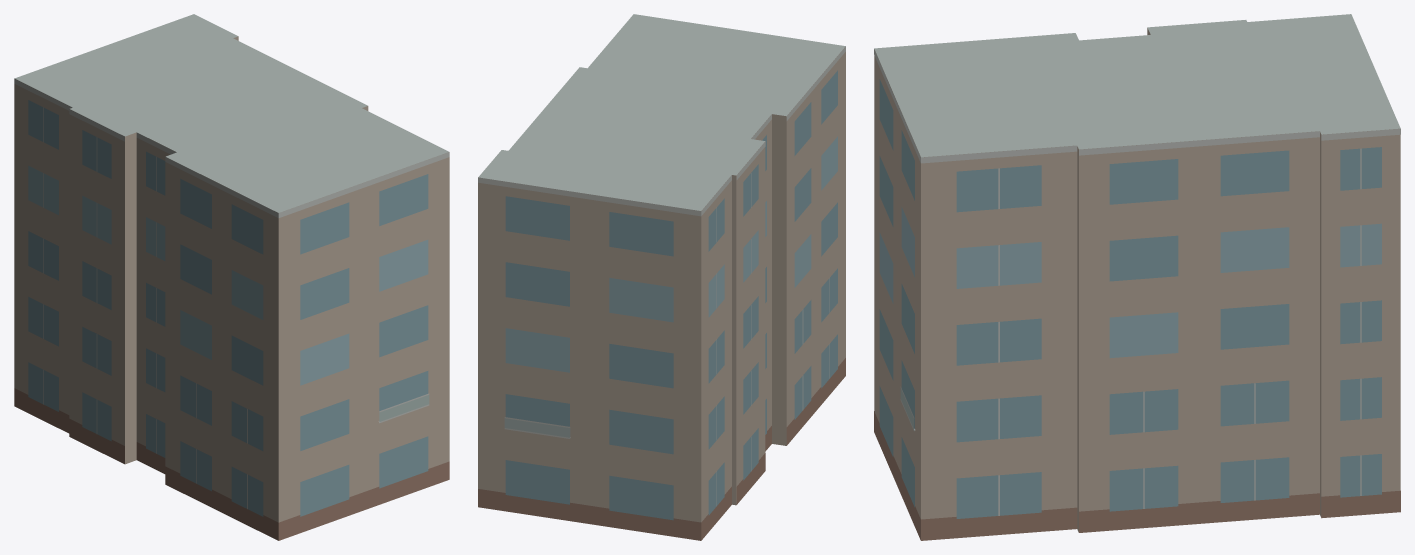
Rendered from survey-upis-33012793.glb.
The picture shows the model from 3 angles, left to right: view 1: azimuth 30°, elevation 25°; view 2: azimuth 150°, elevation 25°; view 3: azimuth 270°, elevation 25°; orthographic projection. The views are drawn at different scales.
Visible parts, largest first — view 1: survey-upis-33012793.tmp; view 2: survey-upis-33012793.tmp; view 3: survey-upis-33012793.tmp.
Boxes of the visible parts, x1,y1,x2,y2 form: survey-upis-33012793.tmp: (14,14,449,540); survey-upis-33012793.tmp: (478,14,845,540); survey-upis-33012793.tmp: (874,14,1400,540).
Bounding box in the file's own units: 12.23 × 15.25 × 18.99.
